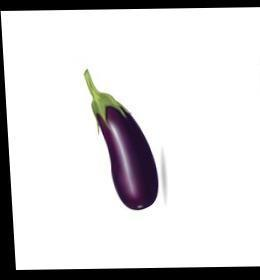eggplant: (71, 63, 185, 223)
